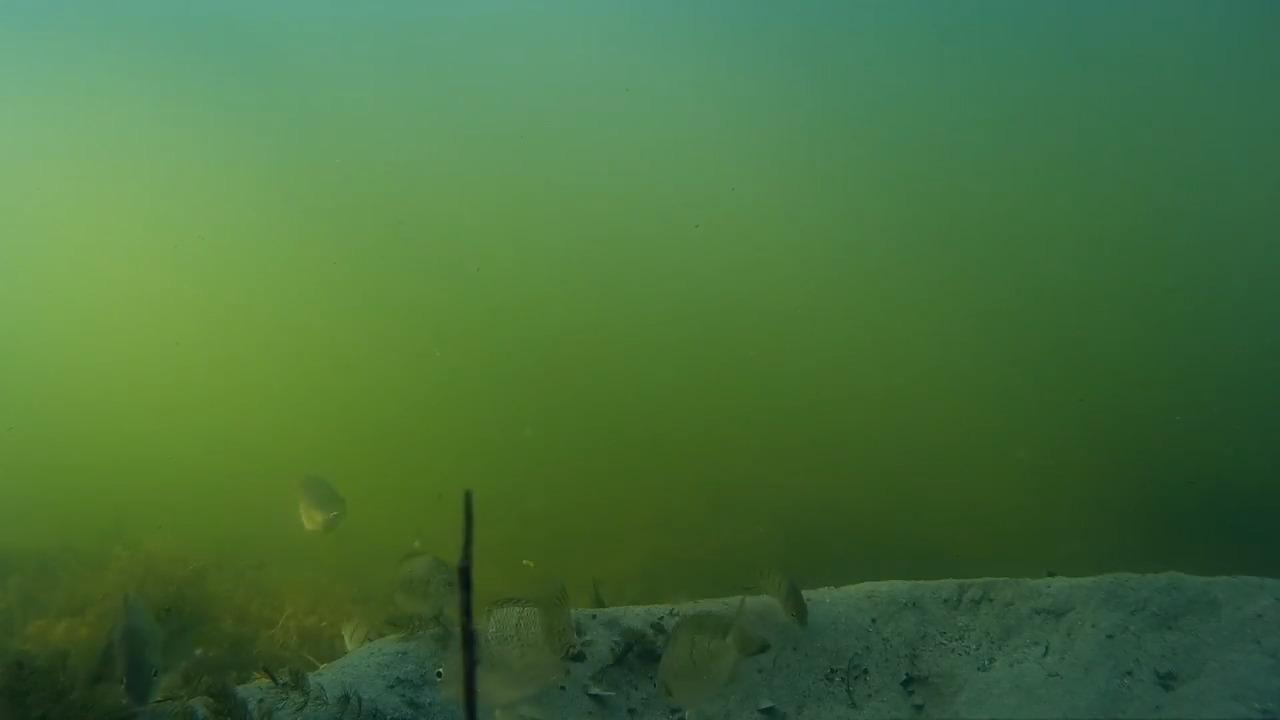Tilapia: (434, 588, 583, 720), (627, 592, 770, 718), (93, 580, 183, 708), (381, 538, 470, 626), (270, 464, 361, 544), (750, 558, 829, 640)
